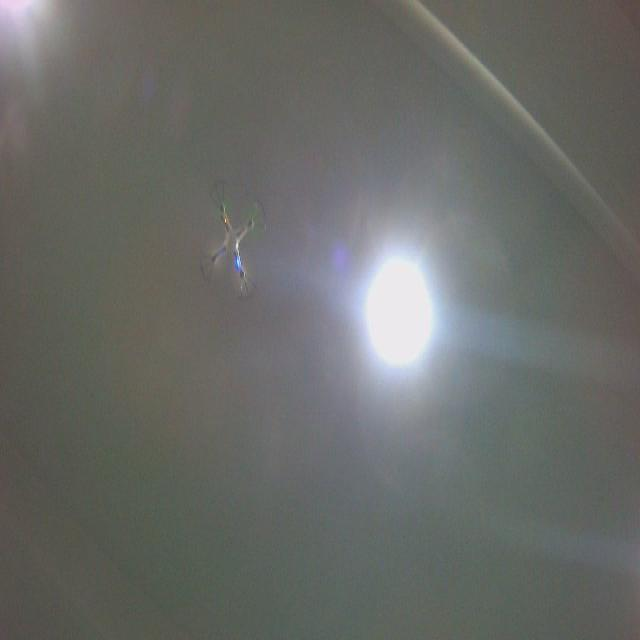drone: (197, 174, 272, 307)
